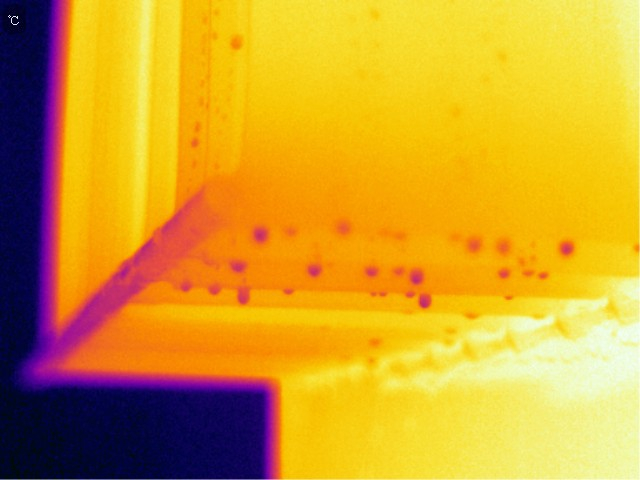Water: (521, 266, 556, 285), (248, 225, 277, 247), (556, 239, 585, 260), (462, 230, 484, 257), (230, 286, 258, 307), (229, 29, 250, 53), (304, 261, 328, 281), (407, 268, 428, 288), (227, 259, 253, 274), (334, 219, 352, 240), (494, 239, 514, 256), (361, 266, 382, 282), (203, 284, 225, 299), (281, 286, 303, 301), (493, 265, 512, 282), (177, 280, 196, 296), (461, 307, 484, 320), (418, 294, 436, 310), (366, 288, 392, 299)
